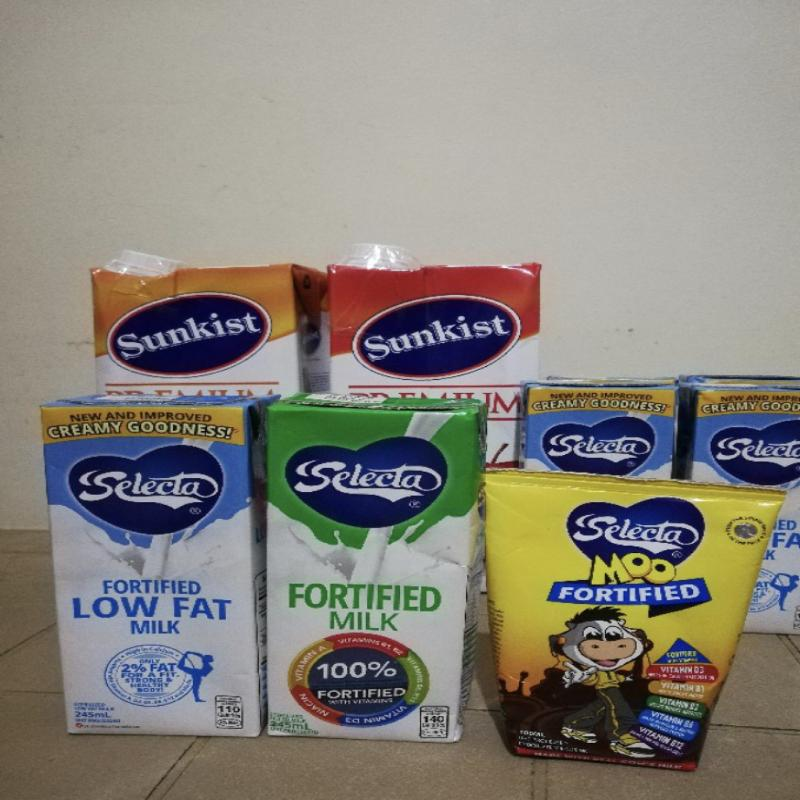uht carton: (479, 470, 788, 773), (39, 394, 281, 740), (260, 394, 487, 744), (327, 244, 541, 469), (89, 250, 331, 398), (673, 376, 800, 637), (517, 376, 677, 480)
